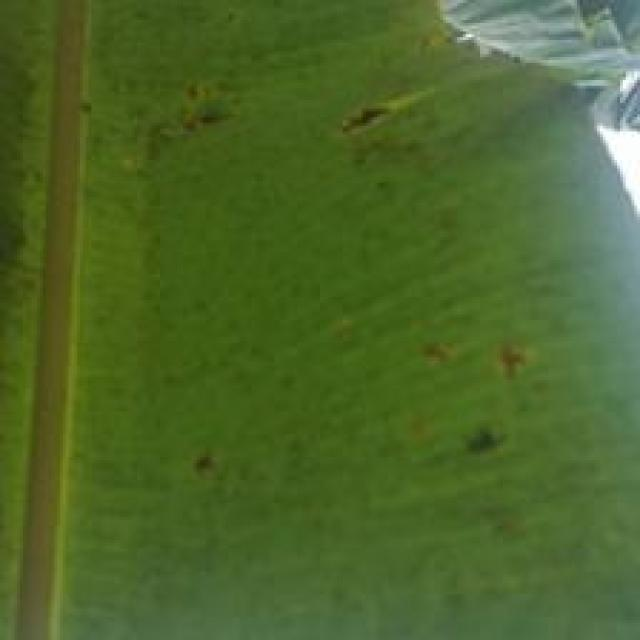Downey_mildrew: (403, 295, 547, 478), (310, 76, 457, 208), (120, 80, 274, 192), (172, 418, 248, 507)
